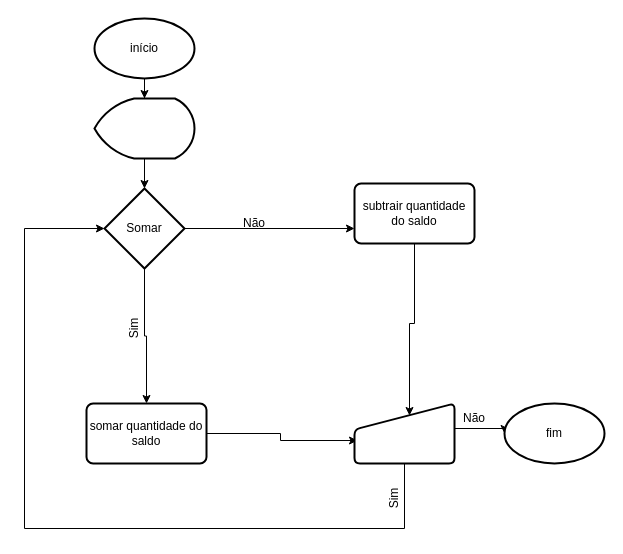
This 623x554 diagram has some shape labels left out. Here are the shapes that lost their labels. From the top down, the centre of each, then its label:
At pixel 144 128: "informe o saldo".
At pixel 404 433: "nova operação?".
